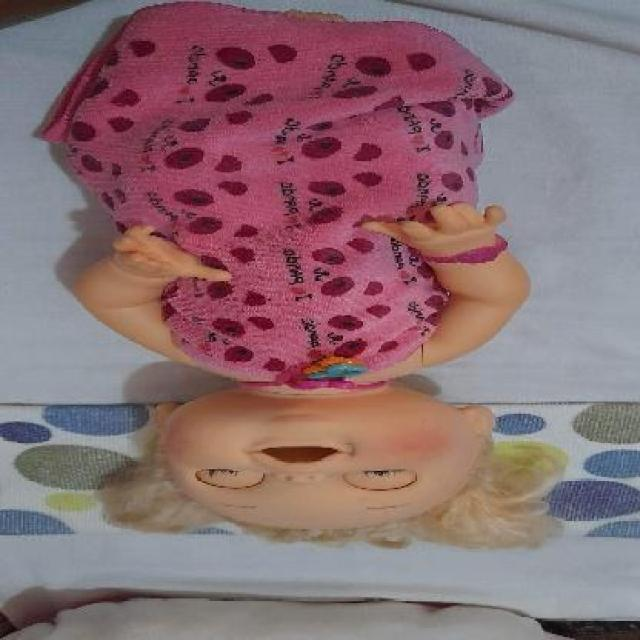non-dog: (34, 2, 557, 555)
